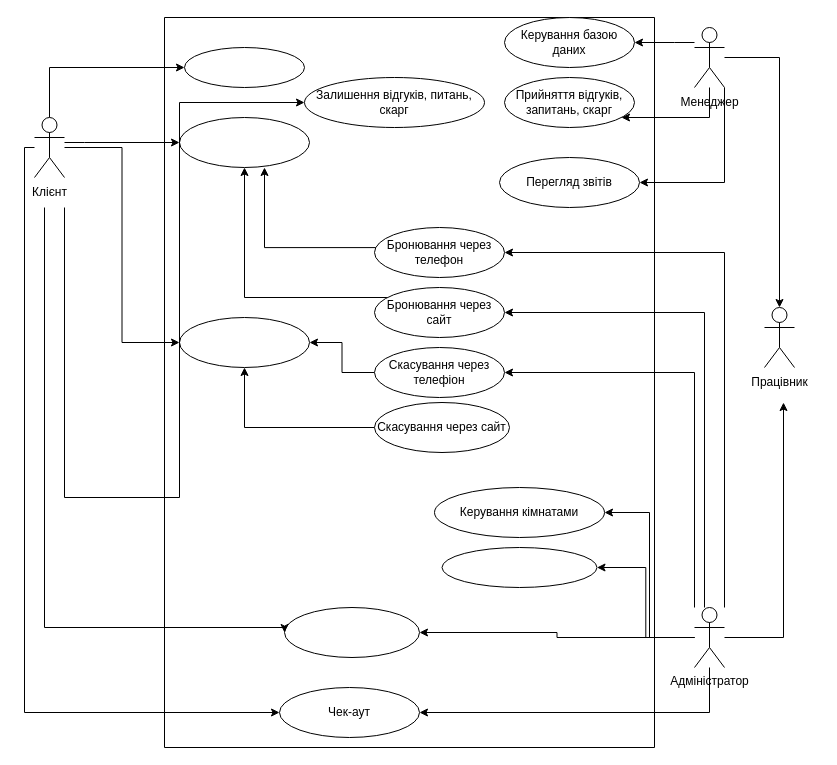
The diagram is 837 pixels wide and 765 high, and some of its shapes have lost their labels. The centre of each missing label's shape, as x and y in pixels:
"Бронювання" goes at pixel 244 142.
"Керування сервісамм" goes at pixel 519 567.
"Перегляд сайту" goes at pixel 244 67.
"Скасування броні" goes at pixel 244 342.
"Чек-ін" goes at pixel 352 632.
